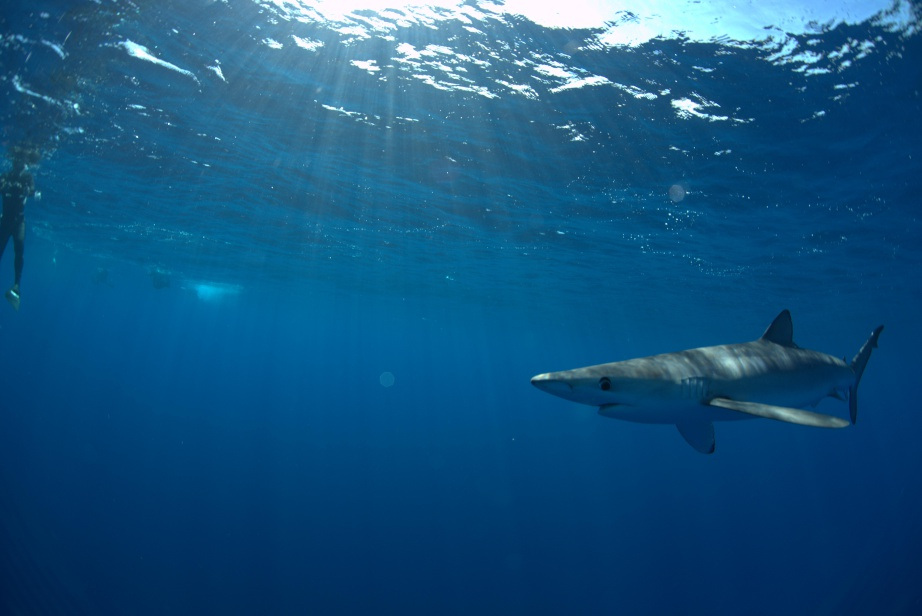Azul: (516, 294, 891, 463)
